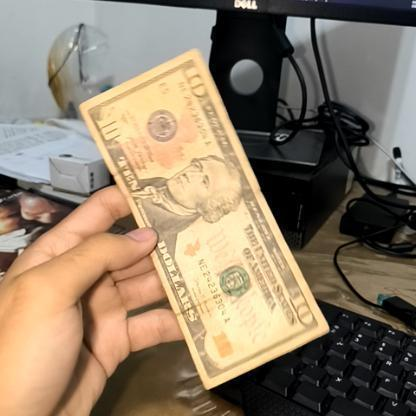ten-front: (78, 44, 326, 396)
